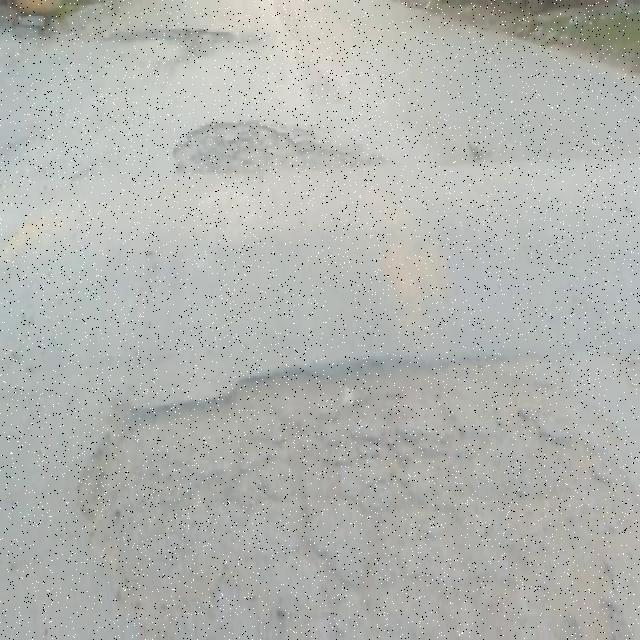pothole: (83, 359, 639, 637), (174, 119, 373, 174)
